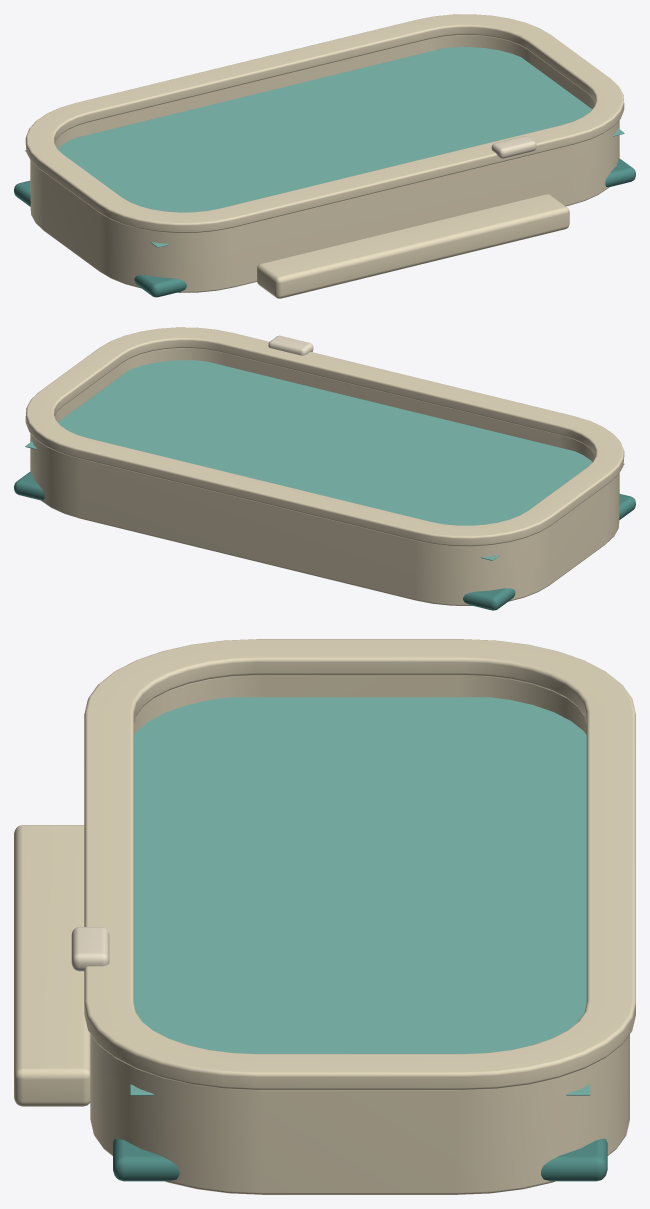
The model's file is mineral_pool.glb.
3 views of the same model, one above another, from view 1: azimuth 30°, elevation 25°; view 2: azimuth 150°, elevation 25°; view 3: azimuth 270°, elevation 25° (orthographic). The views are drawn at different scales.
Visible parts, largest first — view 1: Body_cream, Water_water, Body_teal, Body_linen; view 2: Body_cream, Water_water, Body_teal, Body_linen; view 3: Water_water, Body_cream, Body_teal, Body_linen.
Boxes of the visible parts, x1=… form: Body_cream: x1=25, y1=14, x2=624, y2=298; Water_water: x1=25, y1=47, x2=624, y2=247; Body_teal: x1=14, y1=158, x2=635, y2=297; Body_linen: x1=491, y1=136, x2=536, y2=158; Body_cream: x1=25, y1=327, x2=624, y2=605; Water_water: x1=25, y1=360, x2=624, y2=560; Body_teal: x1=14, y1=471, x2=635, y2=610; Body_linen: x1=268, y1=335, x2=313, y2=355; Water_water: x1=130, y1=697, x2=590, y2=1095; Body_cream: x1=14, y1=639, x2=635, y2=1194; Body_teal: x1=113, y1=1138, x2=607, y2=1181; Body_linen: x1=71, y1=927, x2=109, y2=971.
Size of the model in its own units: 6.88 by 1.03 by 4.15.
